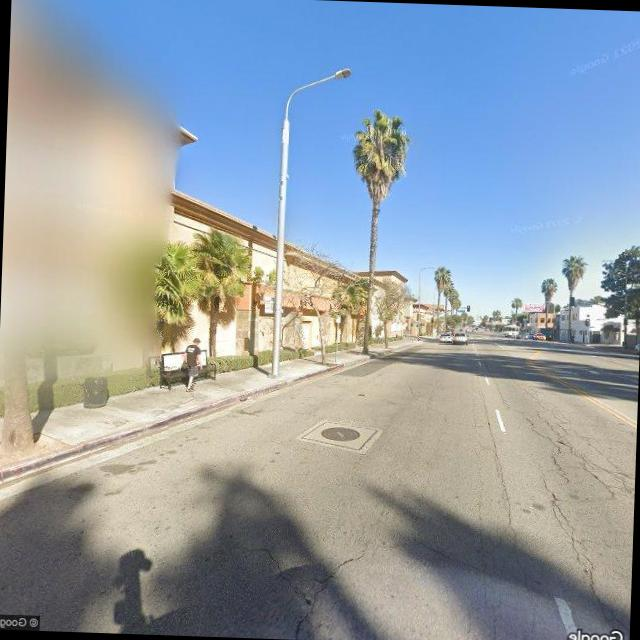crack: (484, 380, 638, 619), (244, 539, 367, 640)
